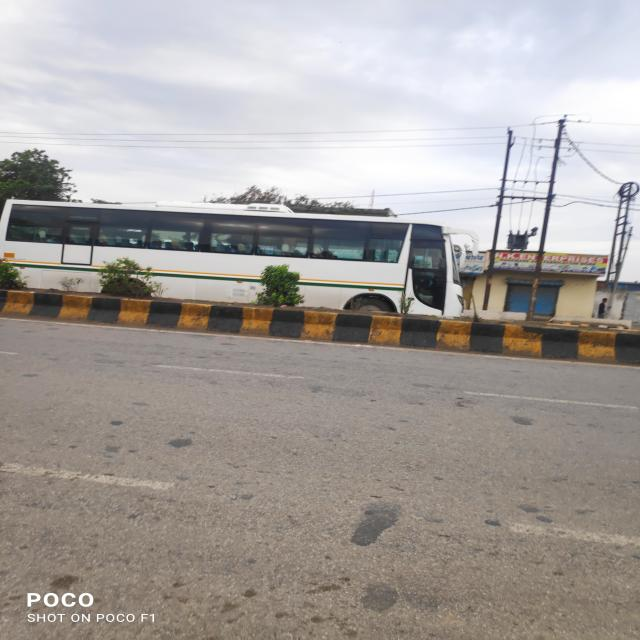Bus: (0, 200, 468, 318)
